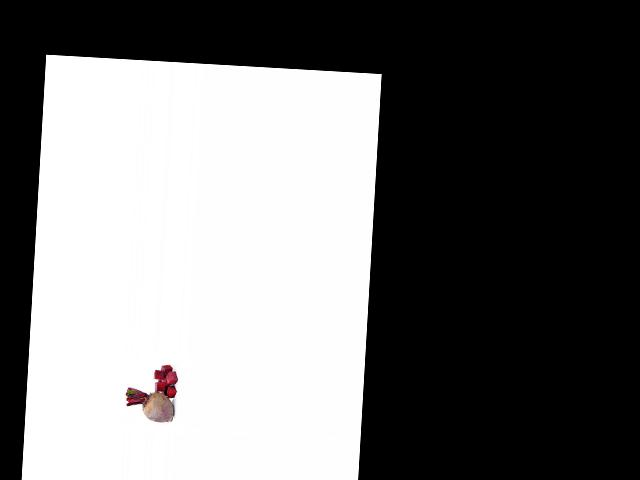beet: (124, 387, 175, 422)
